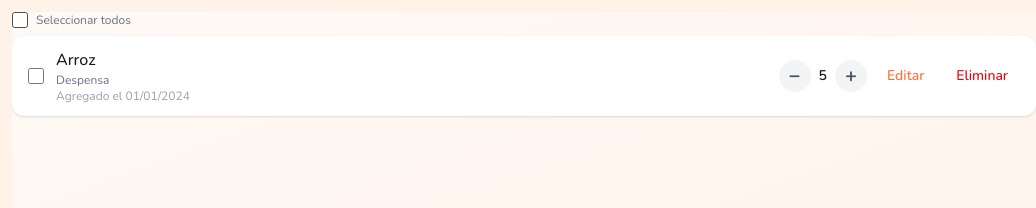
ProductList — bulk delete › clears selection after successful bulk delete
Click the checkbox named "Seleccionar Arroz".
click(36, 76)  # box [28,68,44,84]
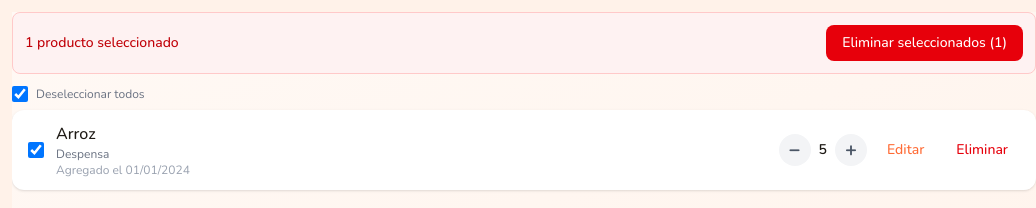
Check: the button "Eliminar seleccionados (1)" is shown
Click the button "Eliminar seleccionados (1)".
click(925, 43)  # box [826,25,1023,61]
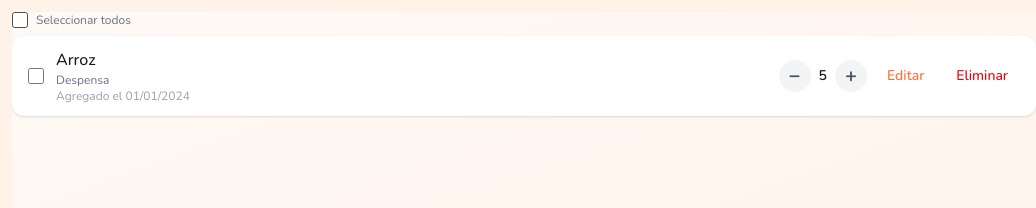
Check: the button "Eliminar seleccionados" is gone
